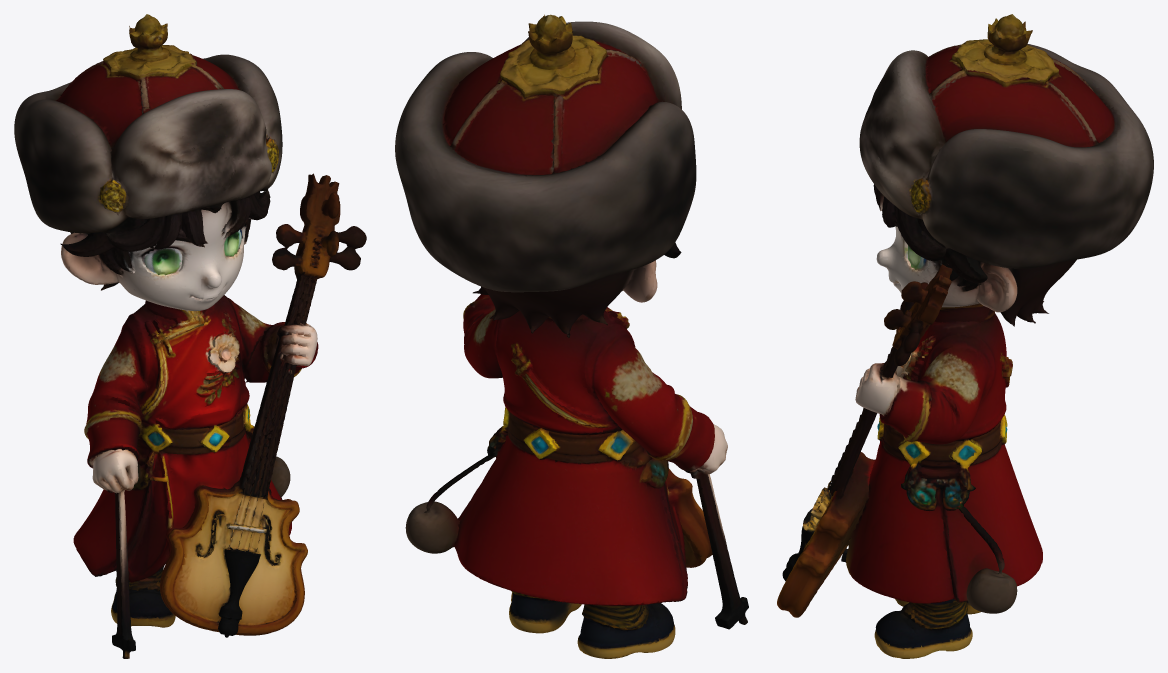
File: mingyan.glb
3 renders of one model, left to right at view 1: azimuth 30°, elevation 25°; view 2: azimuth 150°, elevation 25°; view 3: azimuth 270°, elevation 25°, orthographic. The views are drawn at different scales.
Size of the model in its own units: 1.41 by 2.7 by 1.52.
Materials: 1 (1 with a texture image).
